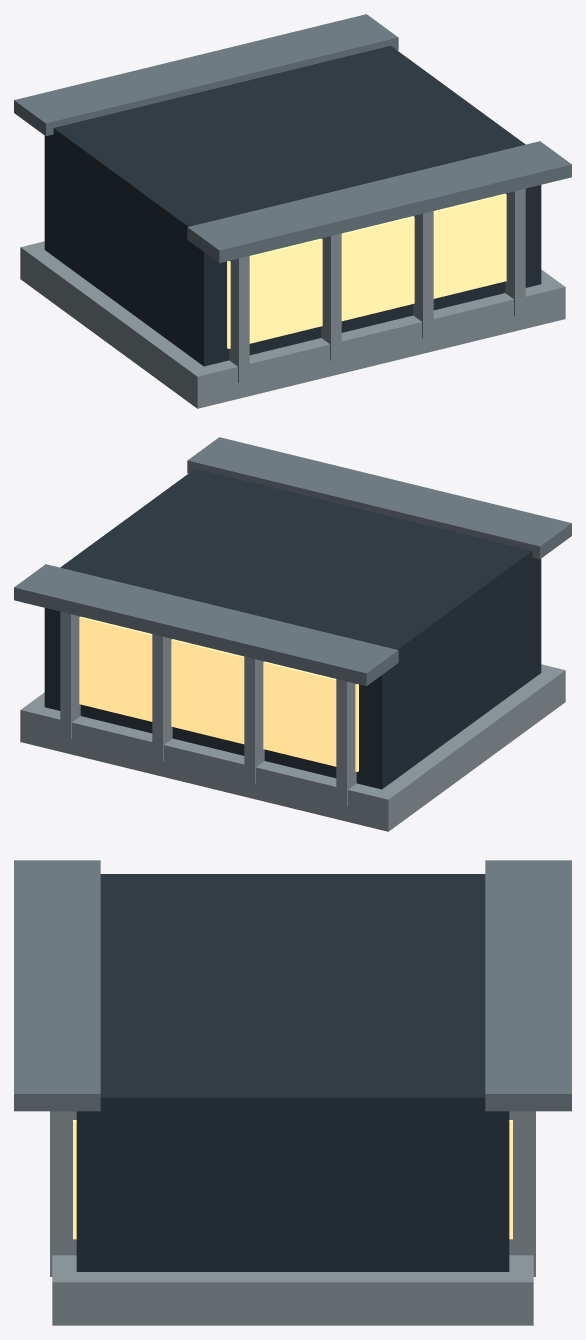
The model's file is vrx_city_podium_a_LOD1.fbx.
3 renders of one model, top to bottom at view 1: azimuth 30°, elevation 25°; view 2: azimuth 150°, elevation 25°; view 3: azimuth 270°, elevation 25°, orthographic. The views are drawn at different scales.
Visible parts, largest first — view 1: vrx_city_podium_a_LOD1; view 2: vrx_city_podium_a_LOD1; view 3: vrx_city_podium_a_LOD1.
Part boxes in pixels (x1,y1,x2,y2): vrx_city_podium_a_LOD1: [14, 14, 571, 408]; vrx_city_podium_a_LOD1: [14, 437, 571, 831]; vrx_city_podium_a_LOD1: [14, 860, 571, 1325].
Size of the model in its own units: 24 by 10.4 by 23.2.
